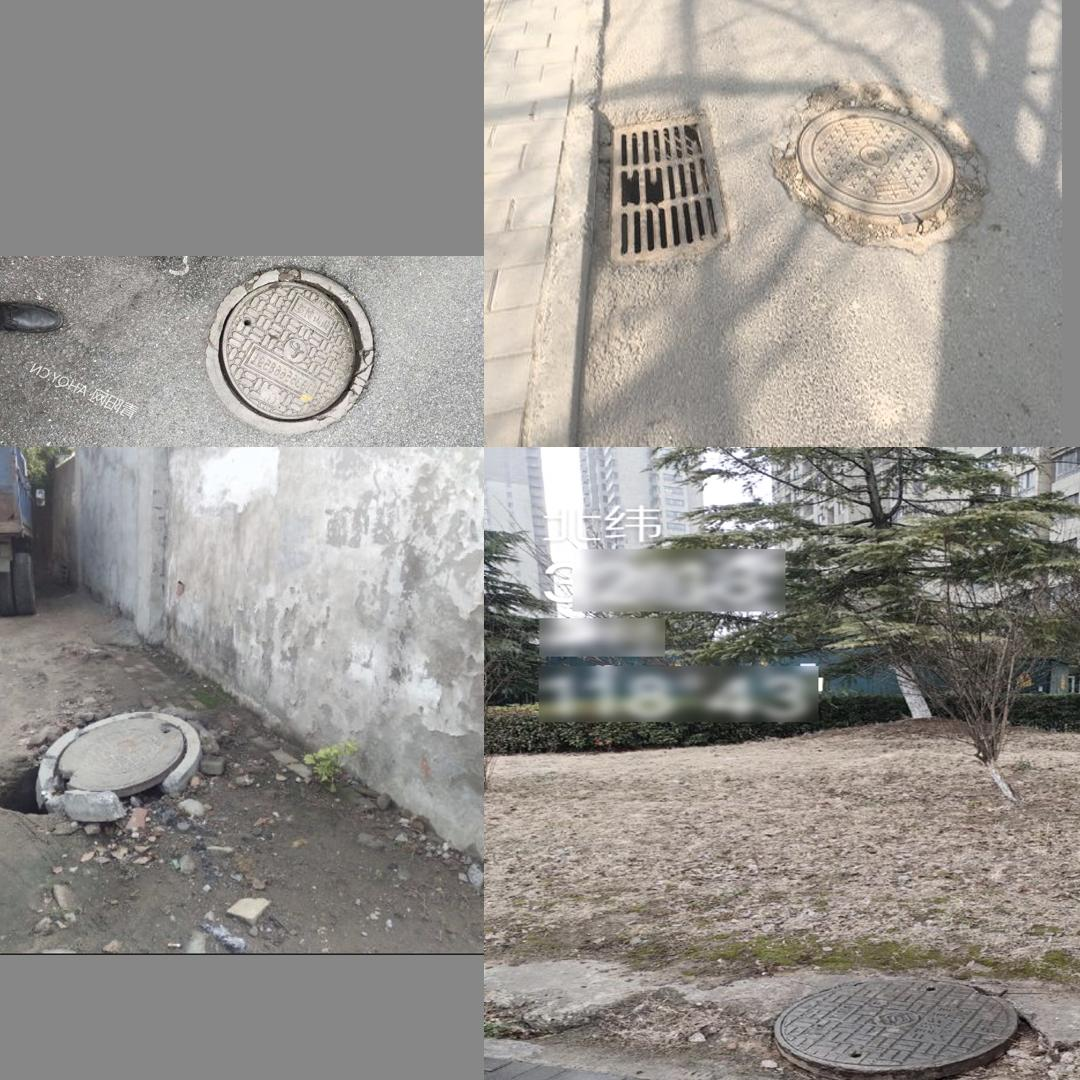circle: (763, 65, 989, 261), (194, 266, 397, 433), (768, 974, 1030, 1080), (5, 709, 204, 824)
